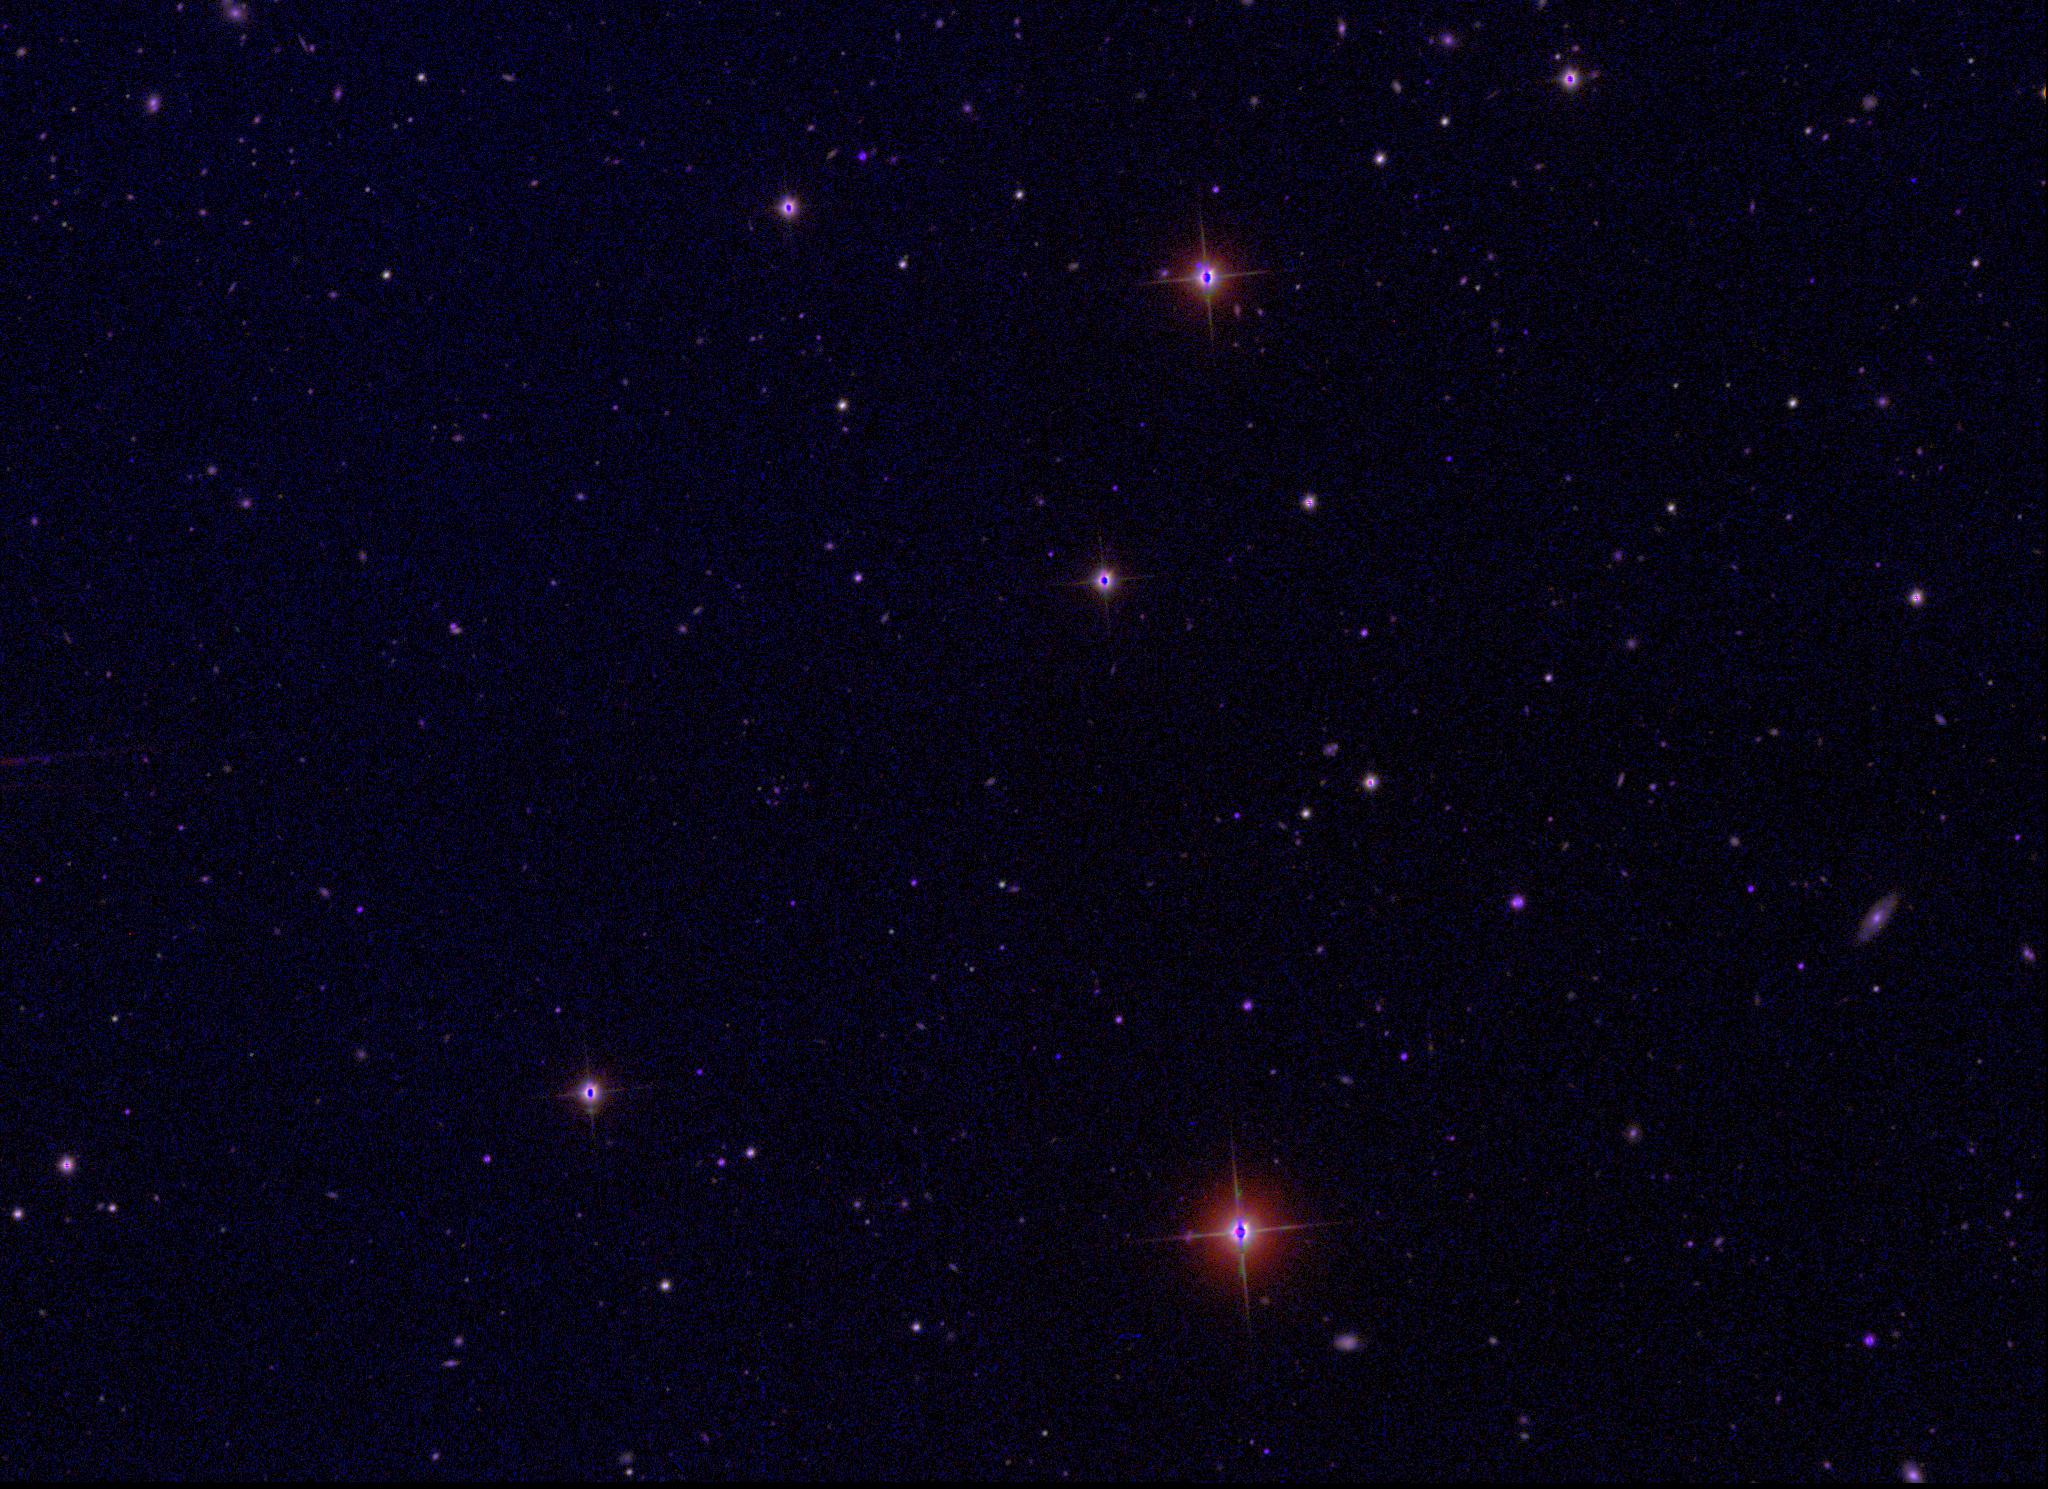L: (1051, 1048, 1065, 1063)
